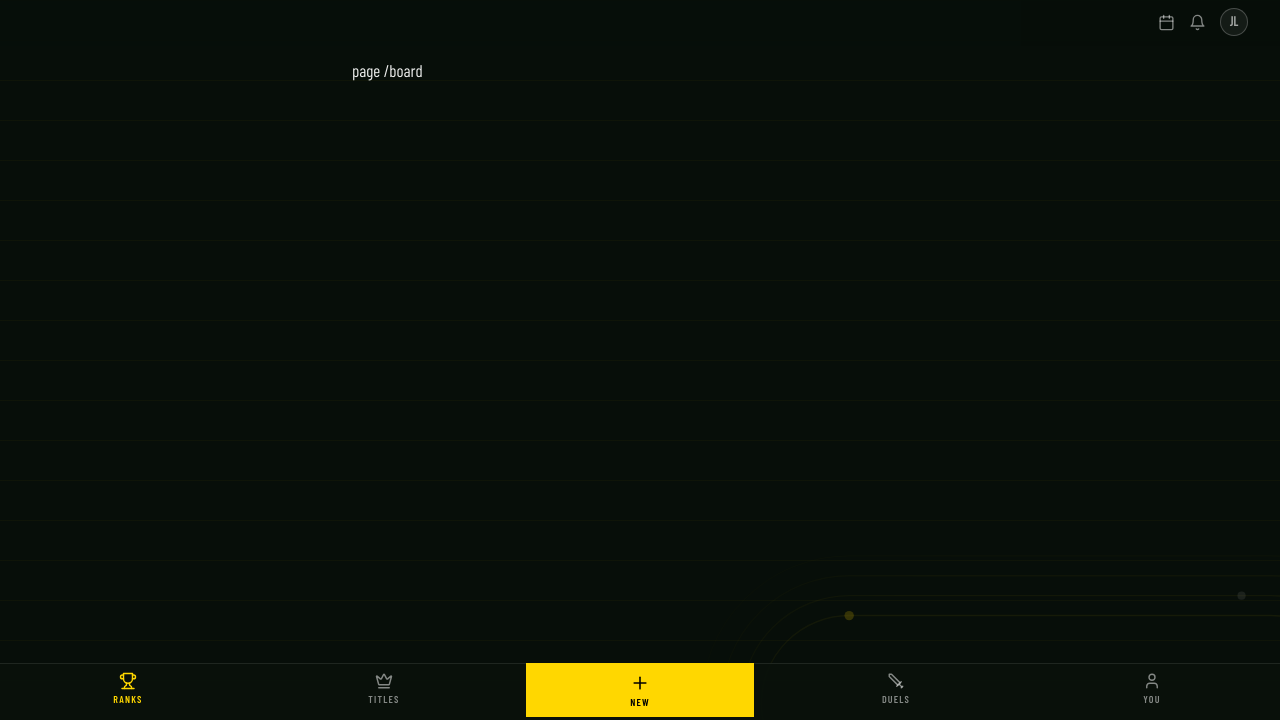
popovern › fel: felkort med Retry i popovern
This screenshot has width=1280, height=720.
Click the button named "Pack news".
click(1198, 22)  # box [1189,14,1206,30]
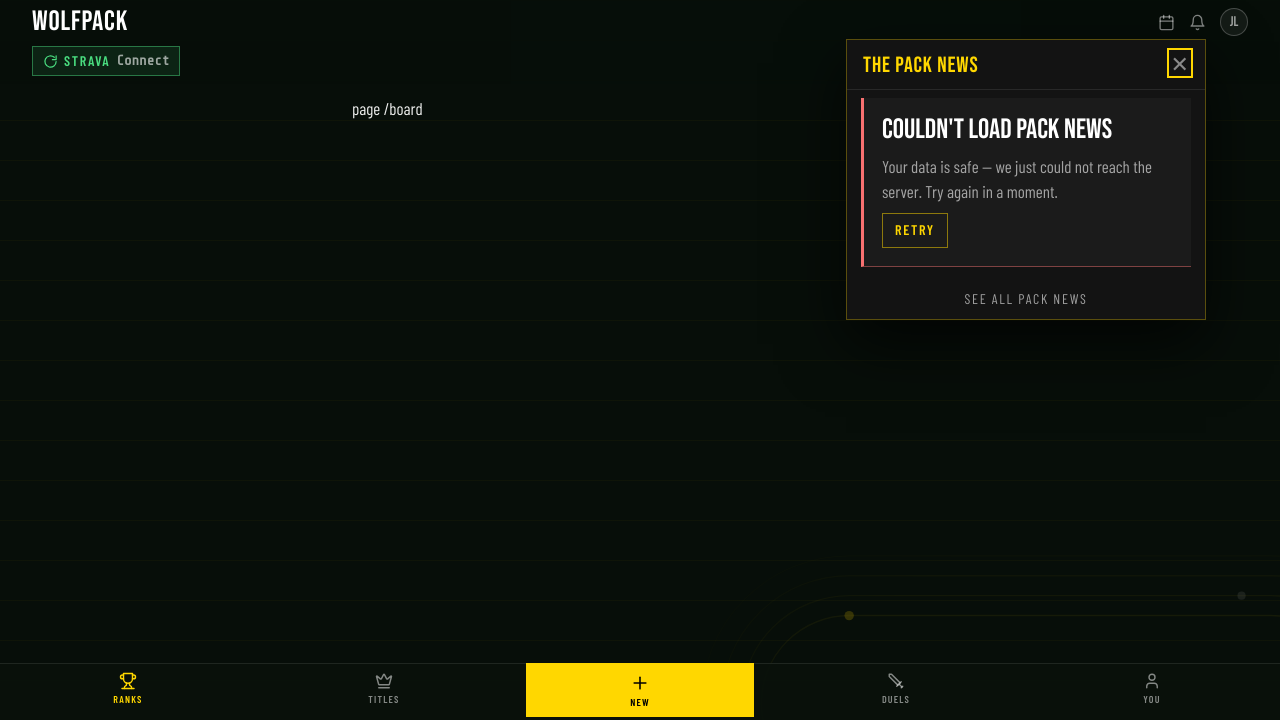
Check: the heading "Couldn't load Pack News" is shown, box [882,116,1112,144]
Click the button "Retry".
click(915, 230)  # box [882,213,948,248]
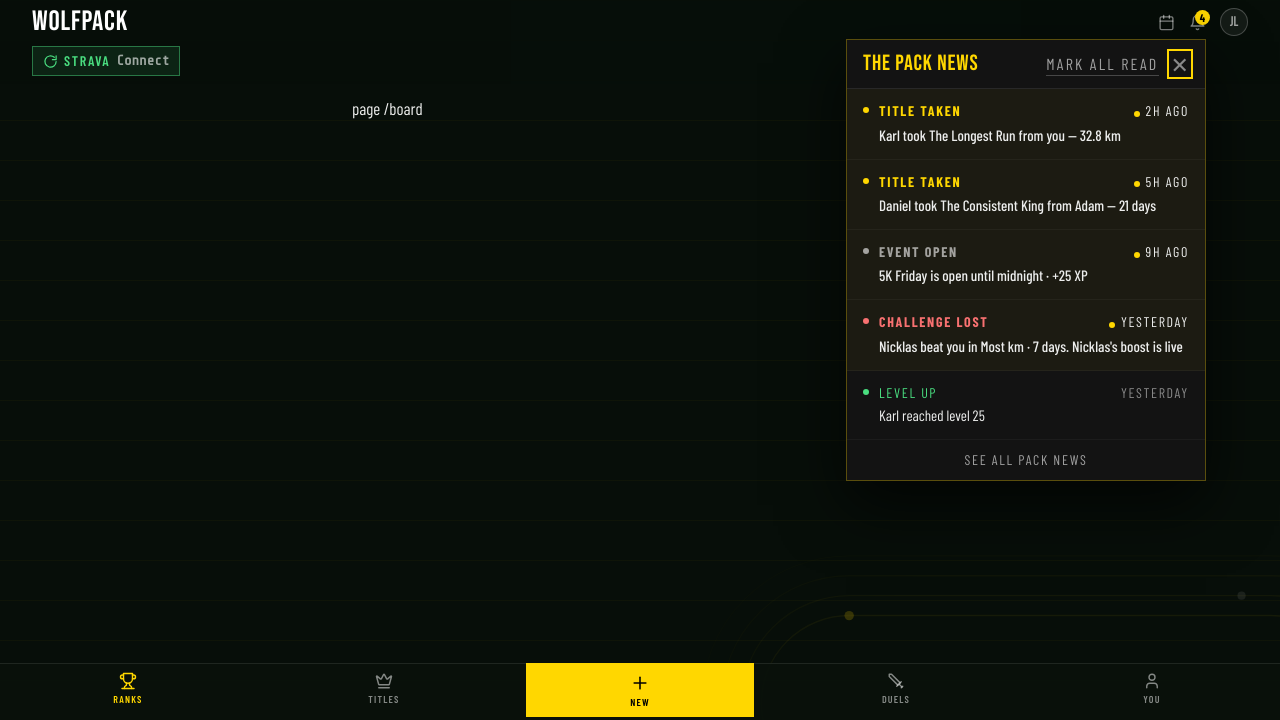
Check: the text "Karl reached level 25" is shown, box [879,406,985,424]
